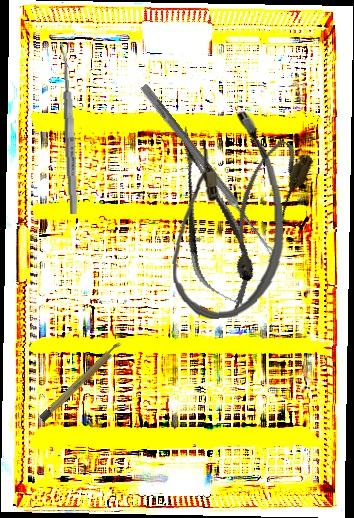Cannula: (164, 109, 288, 321), (211, 135, 317, 286)
Micro Scissor: (156, 118, 265, 323)
Scalpel Handle: (38, 339, 125, 423)
Surgical Spoon: (138, 83, 281, 261), (59, 41, 80, 215)
